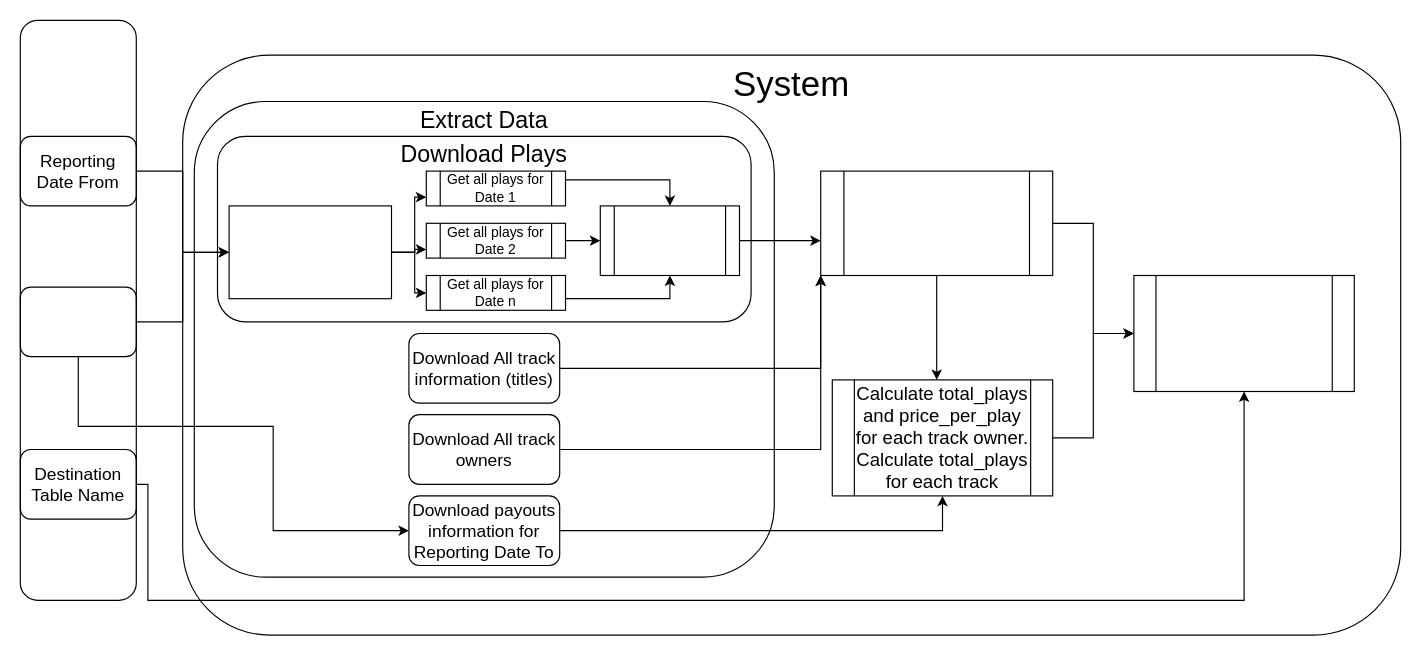
Image size: 1421x655. Some labels were removed from this diagram. The box of each missing label's shape, as (x1, y1, x2, y2) in pixels:
Concatenate all plays. Select the ones with duration >= 30: (599, 205, 740, 276)
Dates Range: 1. Reporting Date From 2. ... 3. ... n. Reporting Date To: (228, 205, 392, 299)
Join all tracks info. Select only valid track titles and track owner: (820, 170, 1053, 276)
Prepare final report, write to BigQuery: (1133, 274, 1354, 392)
Reporting Date To: (19, 286, 136, 357)
